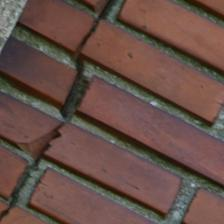Crack: (2, 2, 110, 215)
